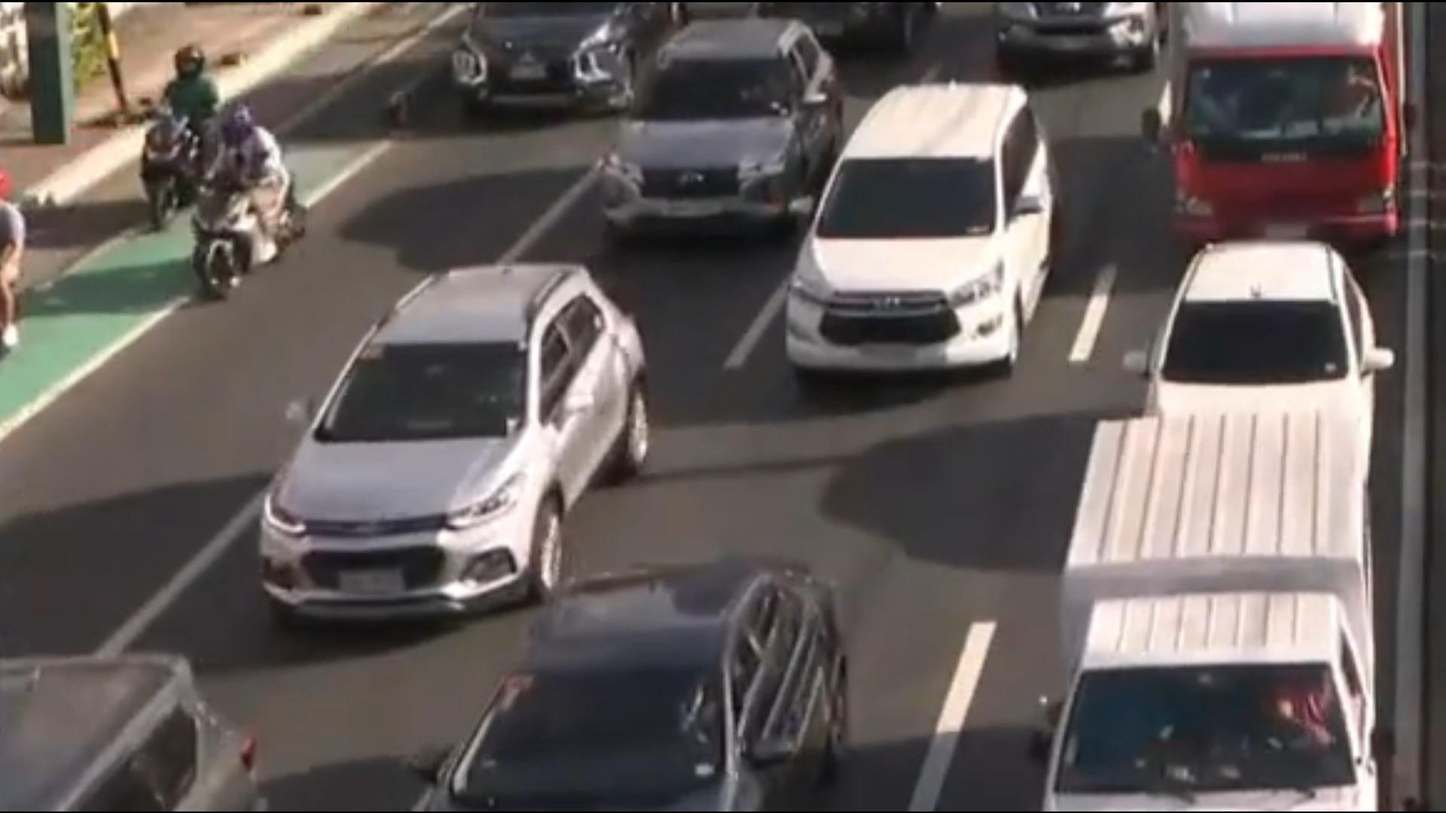Motorcycle: (158, 96, 304, 325), (128, 30, 241, 230)
Multicab: (965, 388, 1420, 813)
SUV: (260, 241, 665, 669), (587, 4, 859, 268)
Sedan: (397, 539, 874, 813), (1117, 204, 1414, 428)
Van: (775, 59, 1117, 401)
